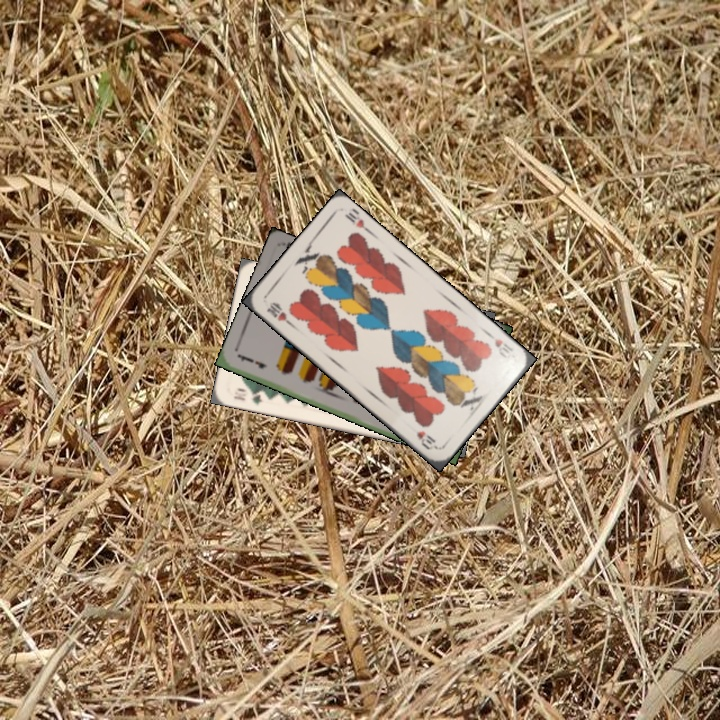E7: (234, 351, 270, 371)
G10: (230, 387, 264, 407)
H10: (483, 329, 516, 361), (262, 298, 295, 328)
